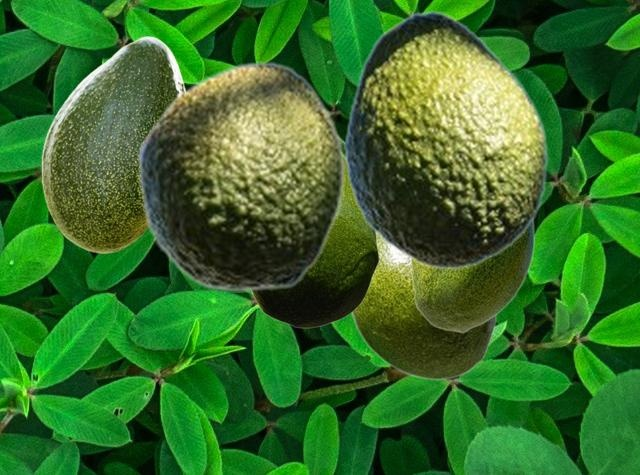avocado: (342, 10, 547, 269), (136, 61, 344, 291), (41, 36, 185, 252), (349, 237, 497, 380), (251, 166, 378, 327), (410, 221, 534, 332)
